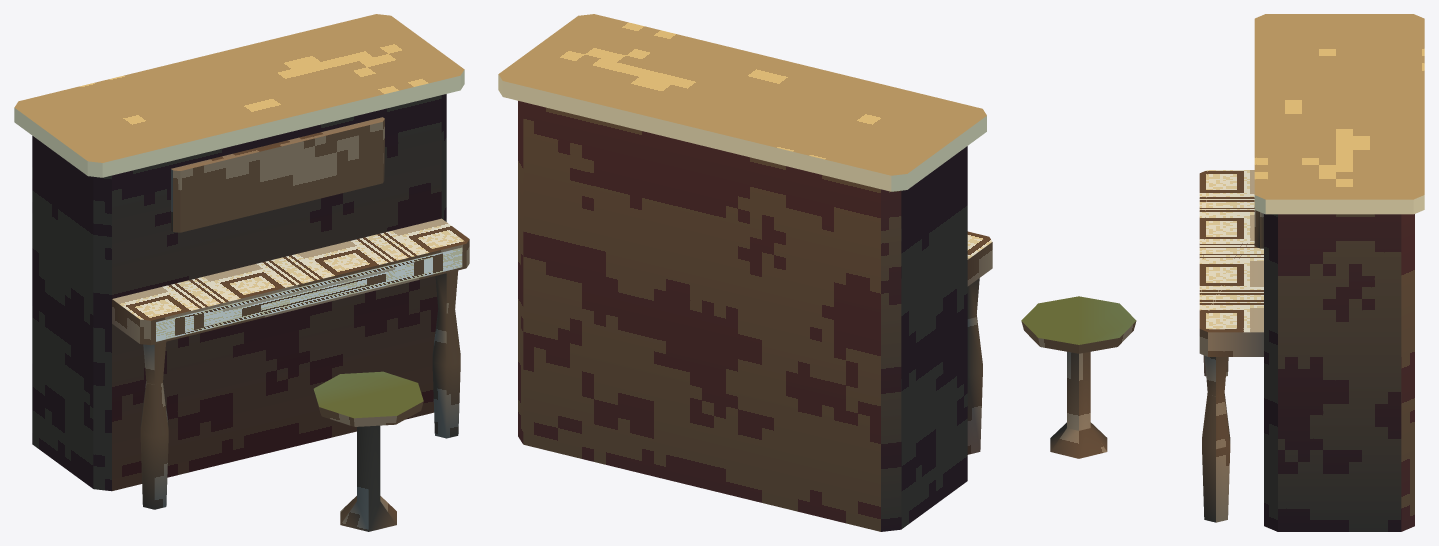
The model's file is wprop.piano.glb.
3 views of the same model, side by side, from view 1: azimuth 30°, elevation 25°; view 2: azimuth 150°, elevation 25°; view 3: azimuth 270°, elevation 25° (orthographic). The views are drawn at different scales.
Parts seen in each view (by area): view 1: kit_cabinet, kit_top_trim, kit_rest, kit_keyshelf, kit_stool, kit_legs, kit_card_keys; view 2: kit_cabinet, kit_top_trim, kit_legs, kit_keyshelf; view 3: kit_cabinet, kit_top_trim, kit_keyshelf, kit_stool, kit_legs.
Part boxes in pixels (x1,y1,x2,y2): kit_cabinet: (32, 94, 446, 491); kit_top_trim: (14, 14, 464, 177); kit_rest: (171, 117, 384, 232); kit_keyshelf: (112, 218, 469, 345); kit_stool: (313, 371, 423, 531); kit_legs: (140, 270, 460, 509); kit_card_keys: (156, 247, 462, 341); kit_cabinet: (518, 101, 967, 531); kit_top_trim: (498, 14, 986, 191); kit_legs: (967, 278, 982, 454); kit_keyshelf: (967, 231, 992, 286); kit_cabinet: (1264, 214, 1414, 531); kit_top_trim: (1254, 14, 1424, 214); kit_keyshelf: (1199, 170, 1263, 356); kit_stool: (1021, 296, 1136, 458); kit_legs: (1202, 355, 1230, 522).
Size of the model in its own units: 1.6 by 1.36 by 1.47.
Materials: 5 (5 with a texture image).
